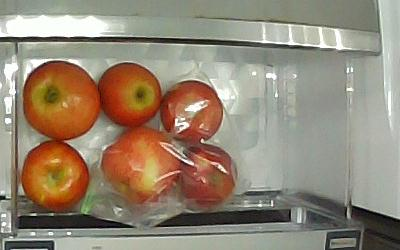apple: (21, 59, 100, 140), (21, 140, 90, 213), (99, 62, 162, 129)
apple_vinyl: (101, 127, 182, 206), (162, 79, 223, 144), (181, 143, 239, 206)
